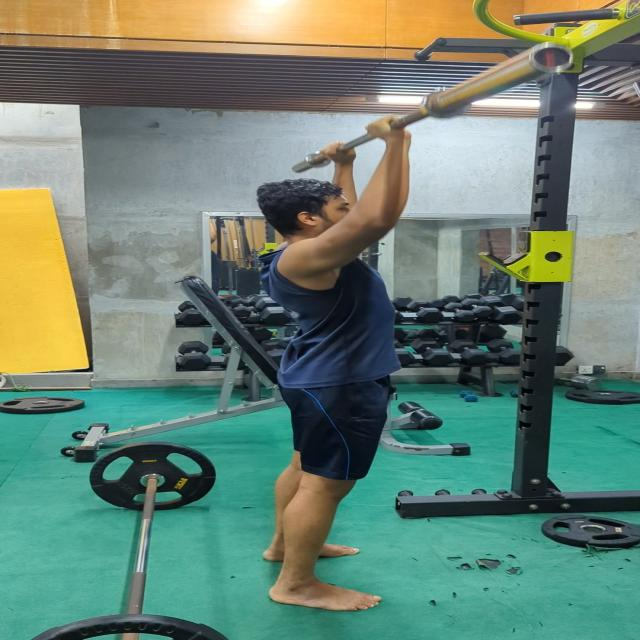Normal_OverheadPress: (240, 100, 456, 625)
